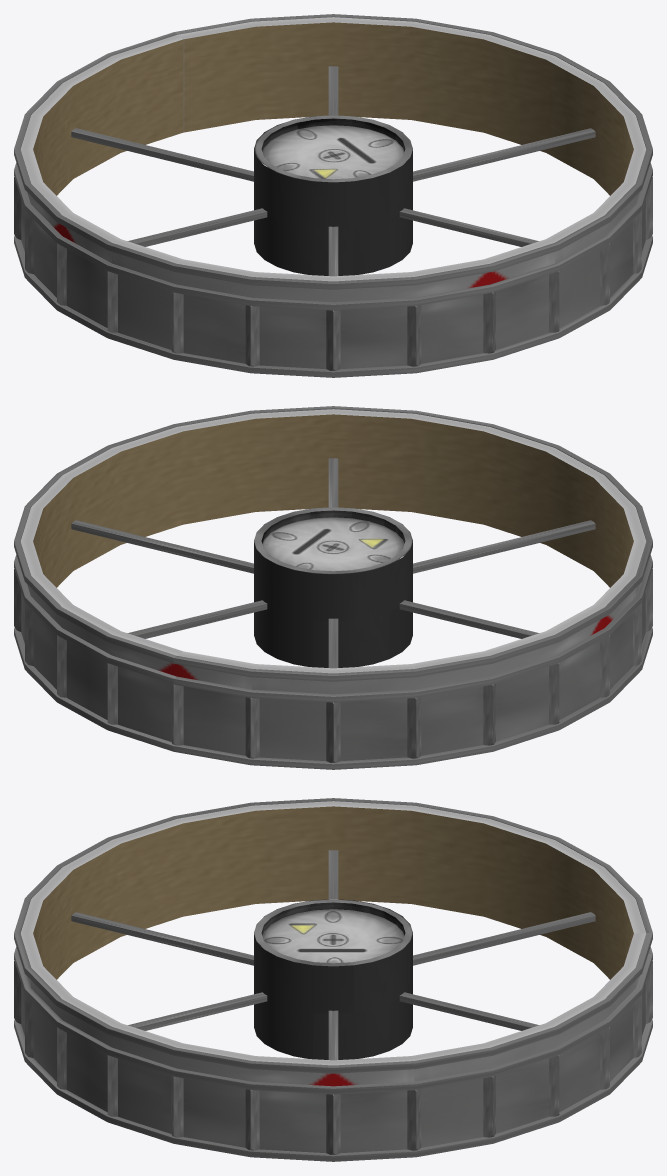
3 renders of one model, top to bottom at view 1: azimuth 30°, elevation 25°; view 2: azimuth 150°, elevation 25°; view 3: azimuth 270°, elevation 25°, orthographic.
Parts seen in each view (by area): view 1: Adapter25, Cylinder049, Tube003, Cylinder046, Tube002, Tube001, Box108, Box109, Box110, Bracer010, Bracer012, Bracer011 (+6 smaller); view 2: Adapter25, Cylinder049, Tube003, Cylinder046, Tube002, Tube001, Box108, Box110, Box109, Bracer002, Bracer004, Bracer003 (+6 smaller); view 3: Adapter25, Cylinder049, Tube003, Cylinder046, Tube002, Tube001, Box110, Box109, Box108, Bracer020, Bracer018, Bracer019 (+6 smaller).
Part boxes in pixels (box(x1,y1,x2,y2)): Adapter25: box(20, 17, 646, 368); Cylinder049: box(254, 115, 412, 229); Tube003: box(14, 14, 652, 289); Cylinder046: box(254, 197, 412, 275); Tube002: box(14, 163, 652, 310); Tube001: box(14, 235, 652, 377); Box108: box(127, 128, 595, 246); Box109: box(71, 128, 538, 246); Box110: box(328, 66, 338, 276); Bracer010: box(245, 305, 259, 366); Bracer012: box(407, 305, 421, 366); Bracer011: box(326, 310, 340, 370); Adapter25: box(20, 409, 646, 760); Cylinder049: box(254, 507, 412, 621); Tube003: box(14, 406, 652, 681); Cylinder046: box(254, 589, 412, 667); Tube002: box(14, 555, 652, 702); Tube001: box(14, 627, 652, 769); Box108: box(71, 520, 539, 638); Box110: box(127, 520, 595, 638); Box109: box(328, 458, 338, 668); Bracer002: box(245, 697, 259, 758); Bracer004: box(407, 697, 421, 758); Bracer003: box(326, 702, 340, 762); Adapter25: box(20, 801, 646, 1152); Cylinder049: box(254, 899, 412, 1013); Tube003: box(14, 798, 652, 1073); Cylinder046: box(254, 981, 412, 1059); Tube002: box(14, 947, 652, 1094); Tube001: box(14, 1019, 652, 1161); Box110: box(71, 912, 539, 1030); Box109: box(128, 912, 595, 1030); Box108: box(328, 850, 338, 1060); Bracer020: box(407, 1089, 421, 1150); Bracer018: box(245, 1089, 259, 1150); Bracer019: box(326, 1094, 340, 1154).
Size of what is drawn, in the model's own units: 2.55 by 0.4158 by 2.55.
